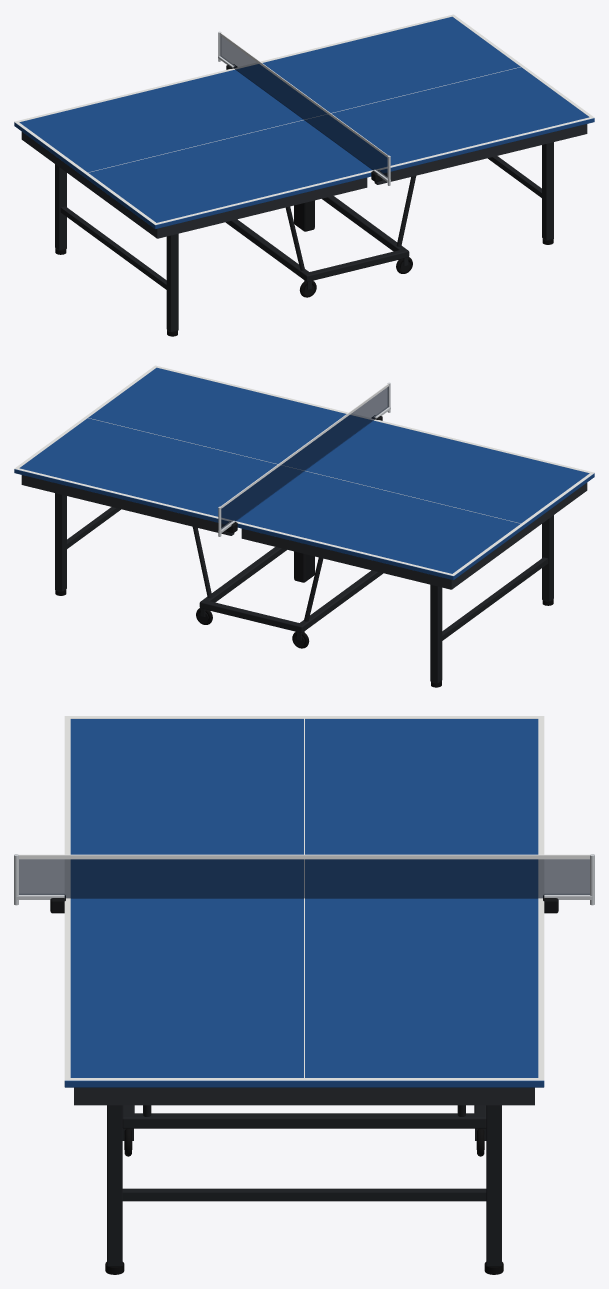
Rendered from platte-competition-blau.glb.
The picture shows the model from 3 angles, top to bottom: view 1: azimuth 30°, elevation 25°; view 2: azimuth 150°, elevation 25°; view 3: azimuth 270°, elevation 25°; orthographic projection. The views are drawn at different scales.
Parts seen in each view (by area): view 1: Platte (×2), Hälfte A, Beine (×2), Netz, Hälfte B, Fahrwerk, Tischtennisplatte; view 2: Platte (×2), Hälfte A, Beine (×2), Netz, Hälfte B, Fahrwerk, Tischtennisplatte; view 3: Platte (×2), Netz, Hälfte B, Beine, Fahrwerk, Hälfte A.
Boxes of the visible parts, <box> form: Platte (×2): <box>14,16,594,229</box>; Hälfte A: <box>14,68,373,238</box>; Beine (×2): <box>55,142,553,336</box>; Netz: <box>218,31,390,185</box>; Hälfte B: <box>235,14,594,184</box>; Fahrwerk: <box>225,196,412,297</box>; Tischtennisplatte: <box>285,176,416,270</box>; Platte (×2): <box>14,367,594,580</box>; Hälfte A: <box>235,419,594,589</box>; Beine (×2): <box>55,493,553,687</box>; Netz: <box>218,382,390,536</box>; Hälfte B: <box>14,365,373,535</box>; Fahrwerk: <box>196,547,383,648</box>; Tischtennisplatte: <box>192,527,323,621</box>; Platte (×2): <box>64,719,544,1087</box>; Netz: <box>14,854,594,913</box>; Hälfte B: <box>64,898,544,1105</box>; Beine: <box>105,1105,503,1274</box>; Fahrwerk: <box>122,1105,486,1156</box>; Hälfte A: <box>64,716,544,897</box>.
Bounding box in the file's own units: 2.74 × 0.9125 × 1.85.
